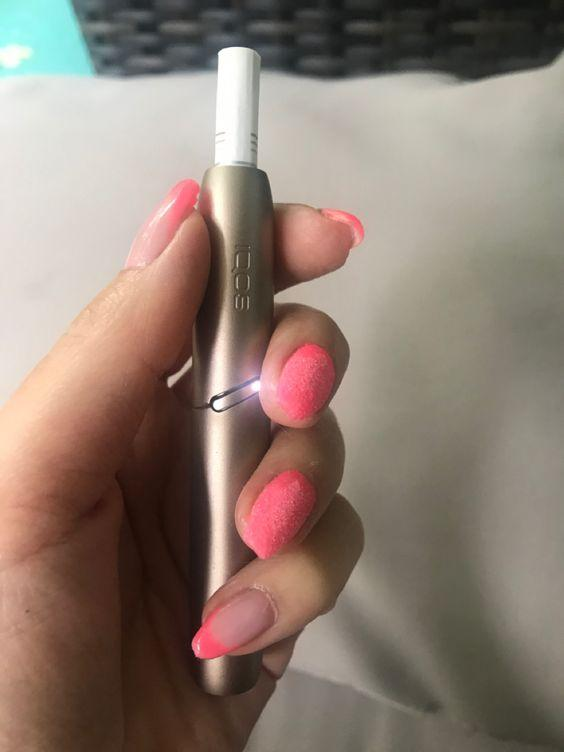iqos: (192, 46, 278, 698)
